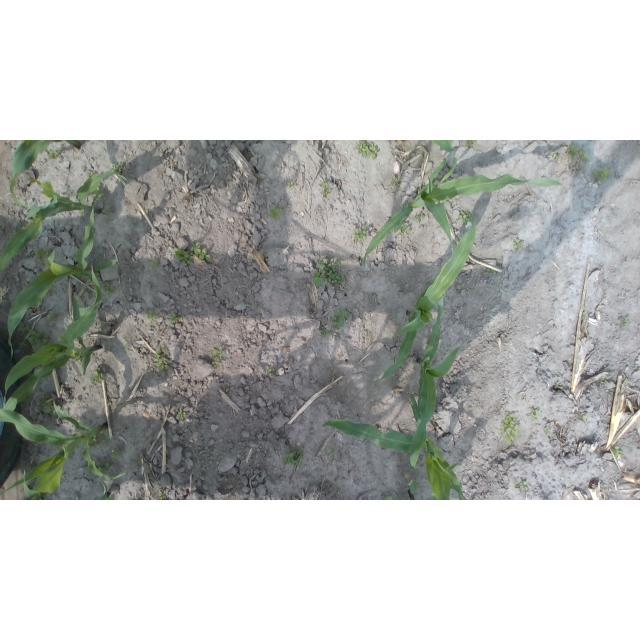Maize: (363, 159, 567, 266), (371, 213, 477, 384), (9, 207, 120, 359), (321, 392, 467, 500), (3, 264, 103, 415), (0, 169, 128, 275), (1, 408, 128, 496), (409, 296, 463, 469), (9, 140, 82, 208), (89, 481, 114, 500), (403, 480, 421, 500), (428, 140, 453, 154)
Weeds: (18, 324, 51, 353), (312, 258, 344, 287), (500, 412, 520, 445), (152, 343, 173, 371), (36, 395, 58, 418), (355, 140, 380, 160), (282, 448, 304, 468), (190, 242, 212, 261), (330, 308, 348, 330), (171, 247, 190, 266), (34, 246, 50, 267), (266, 203, 284, 221), (593, 167, 611, 181), (95, 461, 112, 475), (103, 282, 118, 297), (458, 211, 474, 225), (354, 227, 369, 241), (92, 367, 105, 383), (146, 309, 158, 326), (567, 145, 580, 160), (398, 222, 410, 237), (213, 348, 226, 361), (579, 151, 591, 164), (48, 148, 61, 160), (528, 408, 541, 420), (321, 182, 332, 196), (169, 313, 182, 324), (47, 311, 58, 324), (513, 239, 525, 250), (517, 481, 529, 492), (391, 175, 401, 188), (74, 352, 84, 365), (611, 446, 621, 459), (111, 448, 122, 459), (110, 162, 122, 172), (619, 317, 629, 328), (96, 188, 105, 200), (82, 461, 91, 473), (327, 447, 337, 457), (31, 492, 43, 500), (466, 140, 477, 148), (415, 212, 424, 221), (157, 491, 166, 500), (177, 412, 186, 421), (321, 328, 329, 338), (486, 268, 496, 276), (133, 458, 143, 466), (266, 368, 274, 377), (287, 180, 295, 188), (544, 427, 552, 435), (151, 260, 158, 269), (317, 444, 324, 453), (212, 362, 220, 369), (383, 496, 394, 501), (553, 152, 559, 161), (103, 208, 113, 213), (92, 440, 100, 446), (464, 288, 472, 293), (580, 415, 586, 421), (555, 383, 560, 389), (579, 168, 584, 173)
